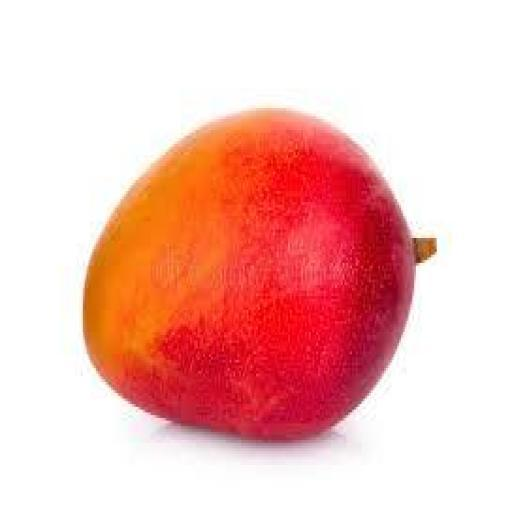mango: (85, 108, 415, 440)
